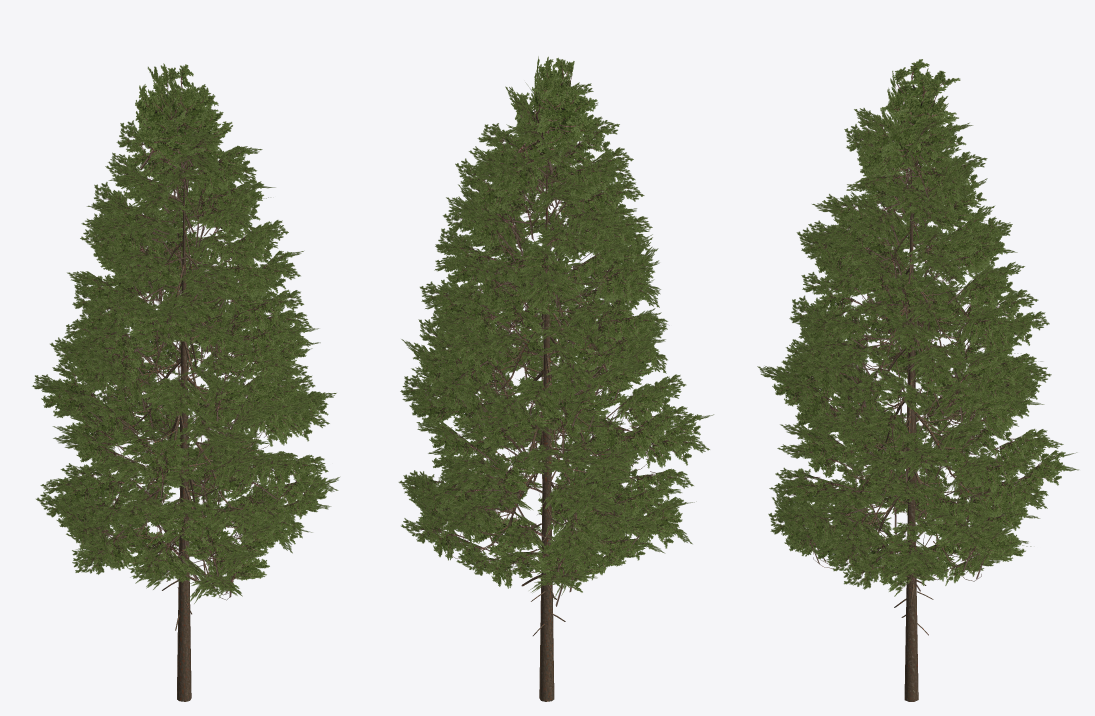
File: firtree.gltf
The picture shows the model from 3 angles, left to right: view 1: azimuth 30°, elevation 25°; view 2: azimuth 150°, elevation 25°; view 3: azimuth 270°, elevation 25°; orthographic projection. The views are drawn at different scales.
Visible parts, largest first — view 1: FirTree_0; view 2: FirTree_0; view 3: FirTree_0.
Part boxes in pixels (box(x1,y1,x2,y2)): FirTree_0: box(32, 63, 339, 701); FirTree_0: box(398, 56, 713, 701); FirTree_0: box(757, 59, 1078, 701).
Size of the model in its own units: 8.22 by 17.62 by 8.25.
Materials: 2 (2 with a texture image).
